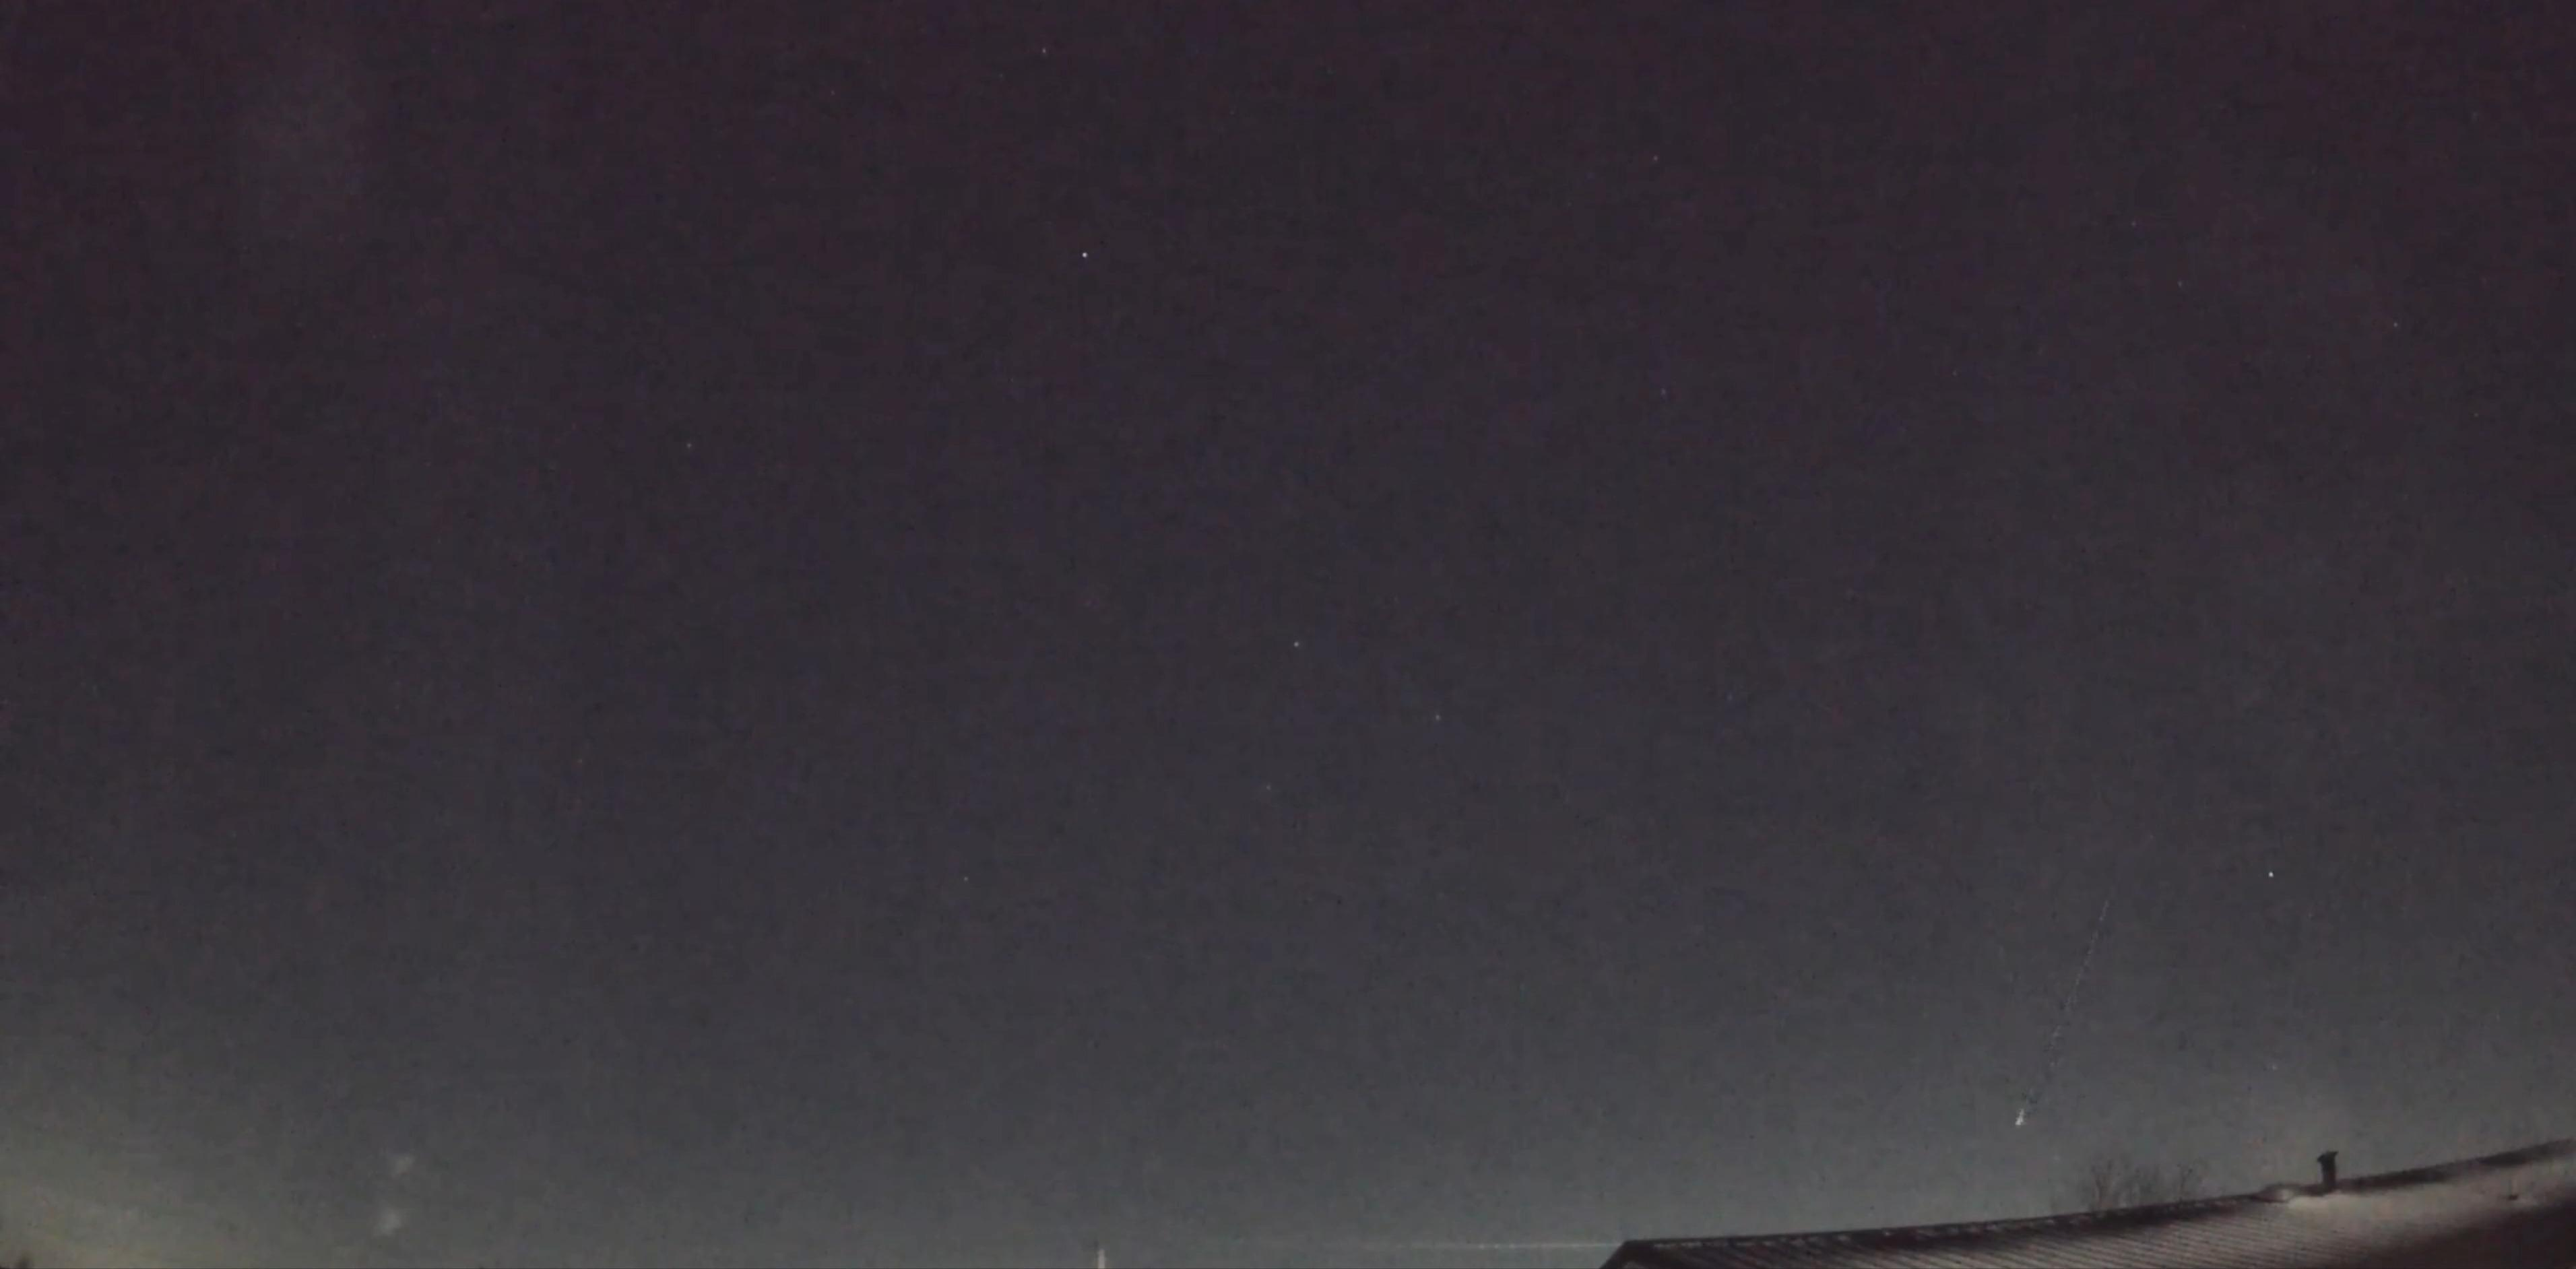meteorite: (1999, 845, 2139, 1133)
